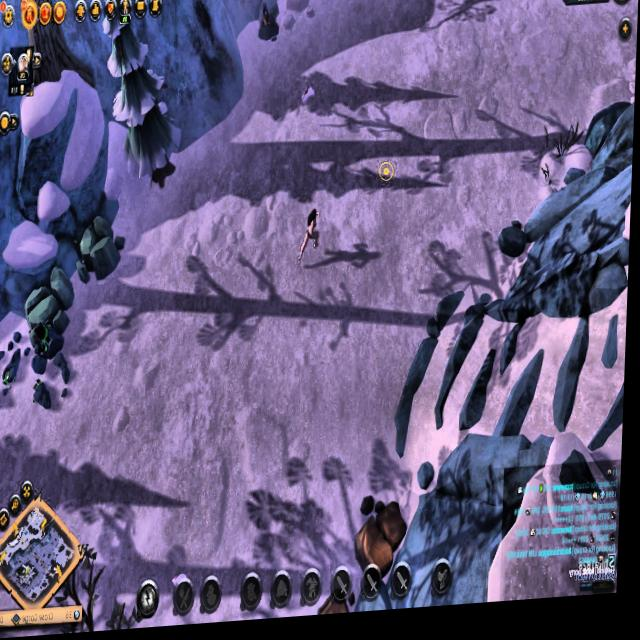copper_ore: (252, 0, 283, 50)
limestone: (356, 494, 415, 587)
sandstone: (75, 208, 132, 301)
tin_ore: (36, 318, 68, 370)
